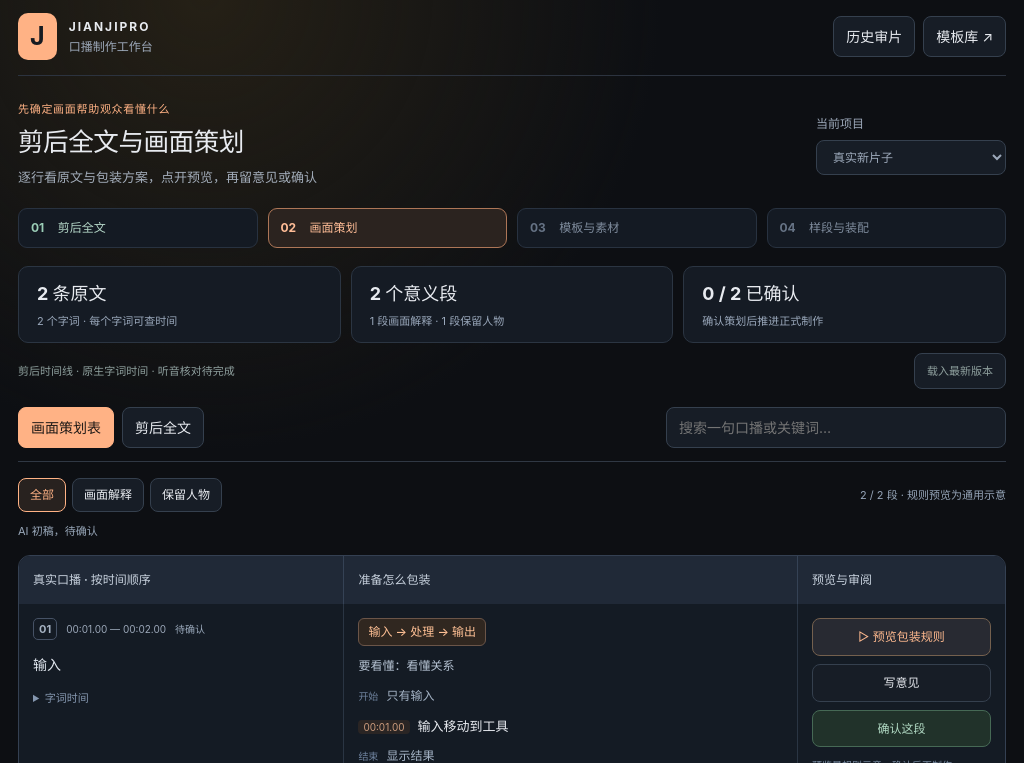
意见草稿分别跟随每行，筛选来回不丢失，未提交草稿不能确认
The width and height of the screenshot is (1024, 763).
Click the button "写意见" at x=901, y=683, box [812,664,991,702]
(page scrolled)
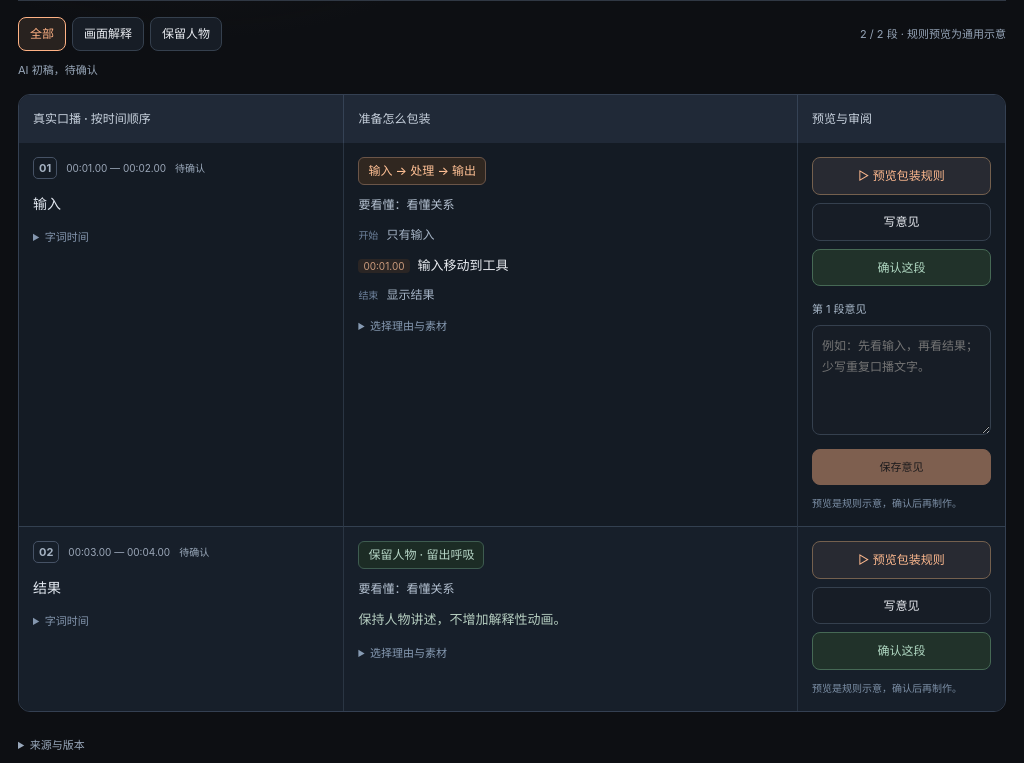
Type "别重复口播" into the text box labelled "第 1 段意见" at x=901, y=380, box [812,324,991,434]
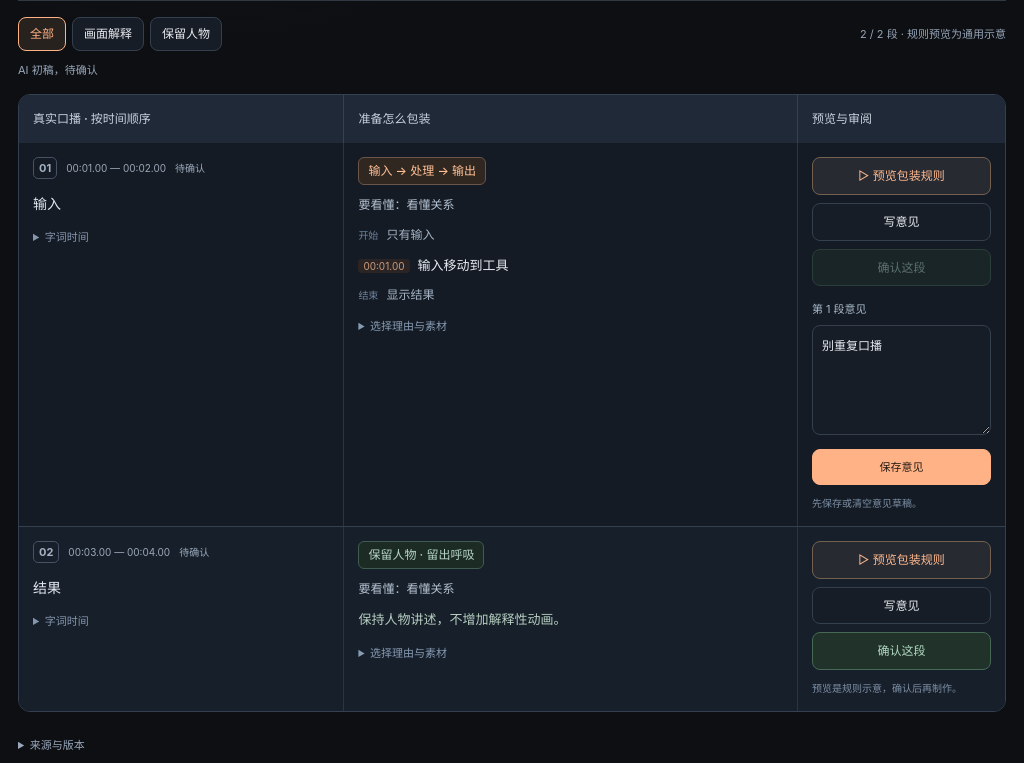
Click the button "写意见" in the row of "保持人物讲述，不增加解释性动画。" at x=901, y=605, box [812,586,991,624]
(page scrolled)
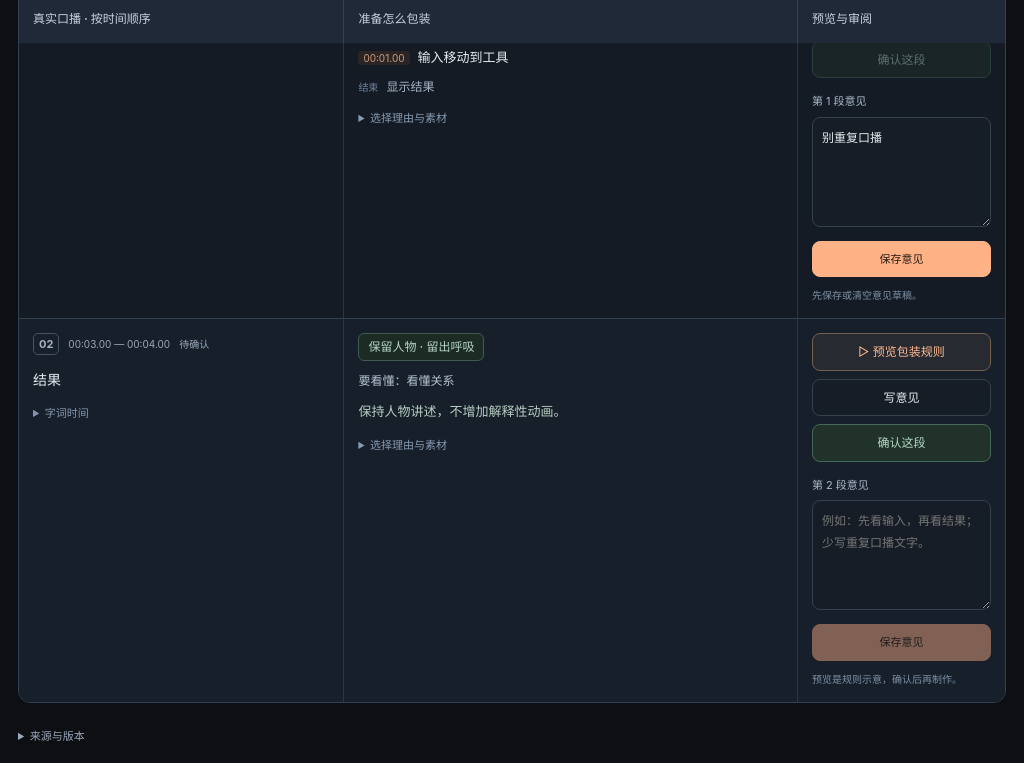
Type "这里保留人物" into the text box labelled "第 2 段意见" at x=901, y=555, box [812,500,991,610]
(page scrolled)
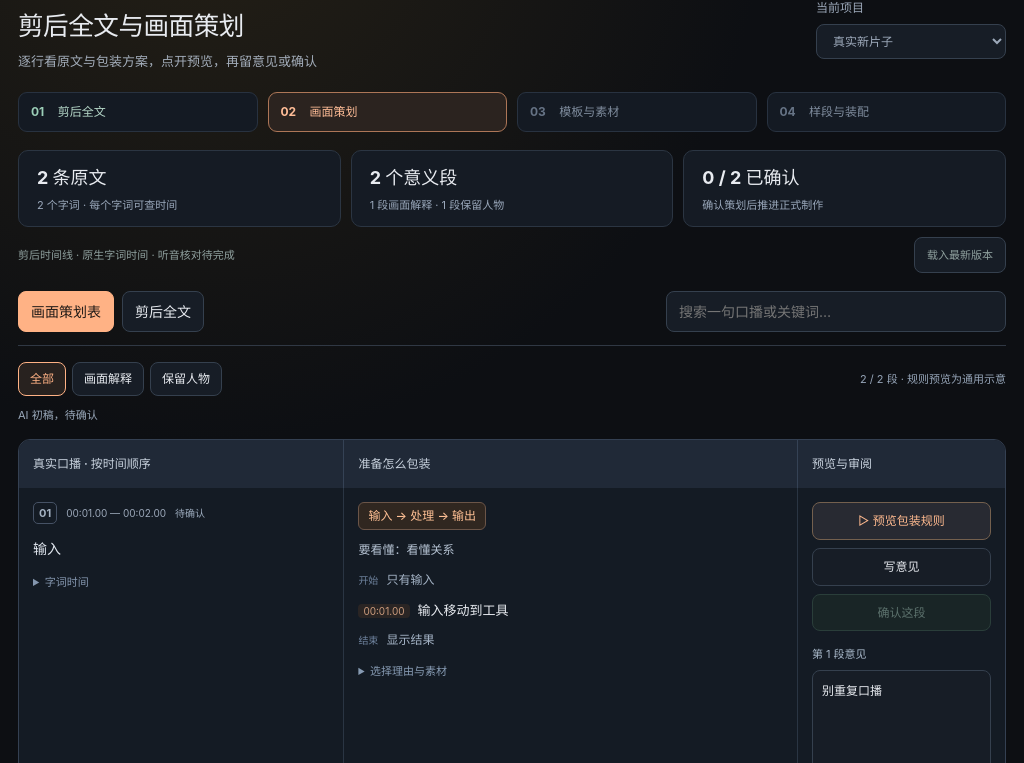
Expected: the button with aria-label "确认第 1 段策划" is disabled, [812,594,991,631]
Click the button "保留人物" at x=186, y=379, box [150,362,222,396]
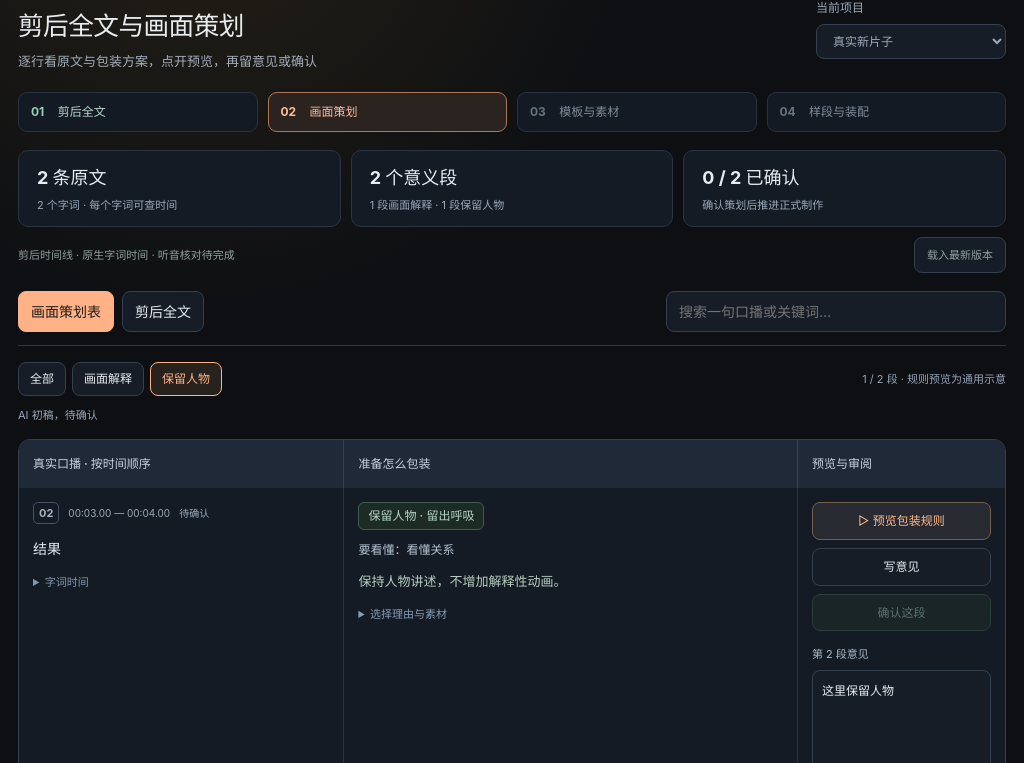
Click the button "全部" at x=42, y=379, box [18,362,66,396]
(page scrolled)
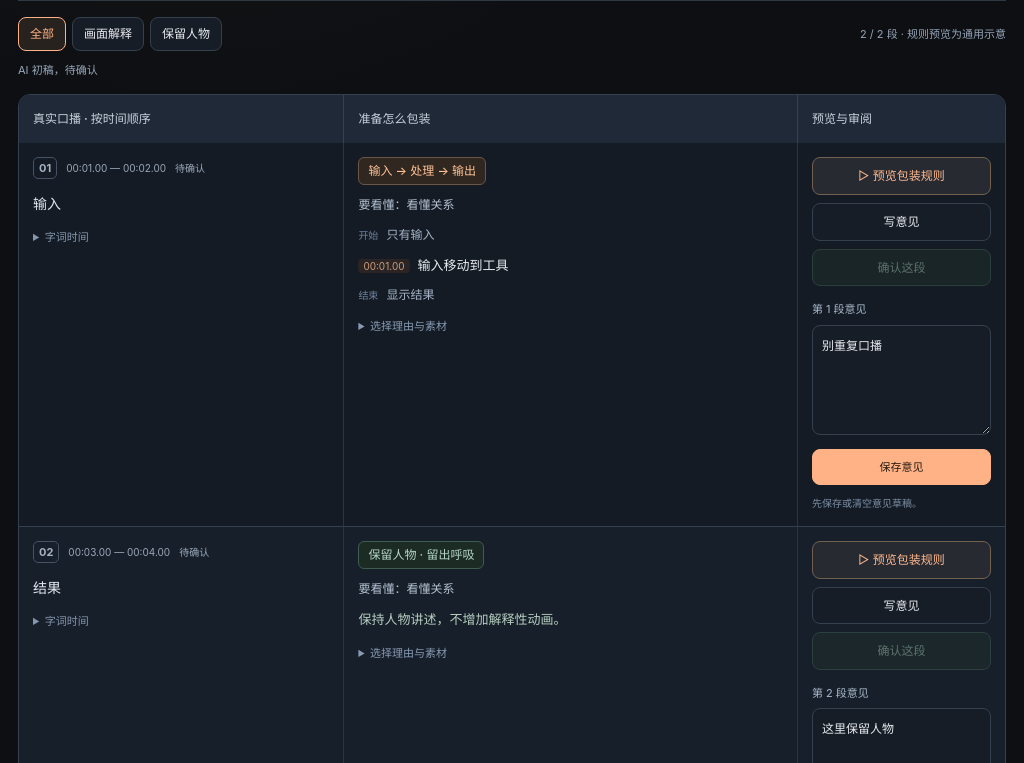
Expected: the text box labelled "第 1 段意见" holds "别重复口播", [812,324,991,434]
